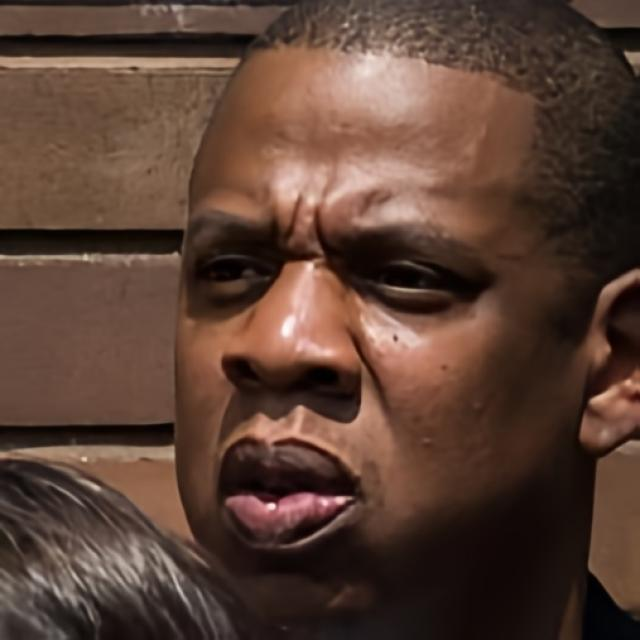disgust: (169, 33, 577, 631)
